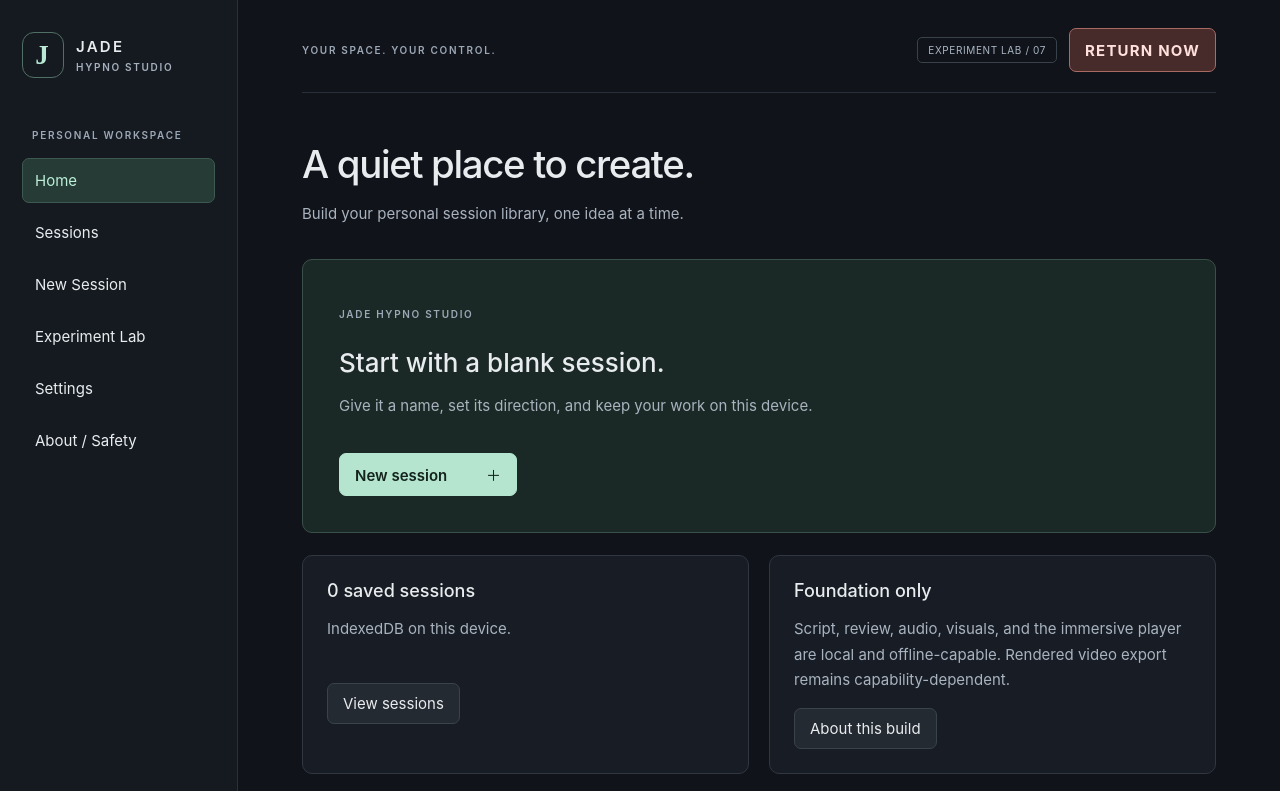
foundation views › creates, edits, flushes on navigation, and reopens a session
The width and height of the screenshot is (1280, 791).
Expected: the button "New session ＋" is enabled, top-left (339, 453), bottom-right (517, 496)
Click the button "New Session" at point(118, 284), box top-left (22, 262), bottom-right (215, 307)
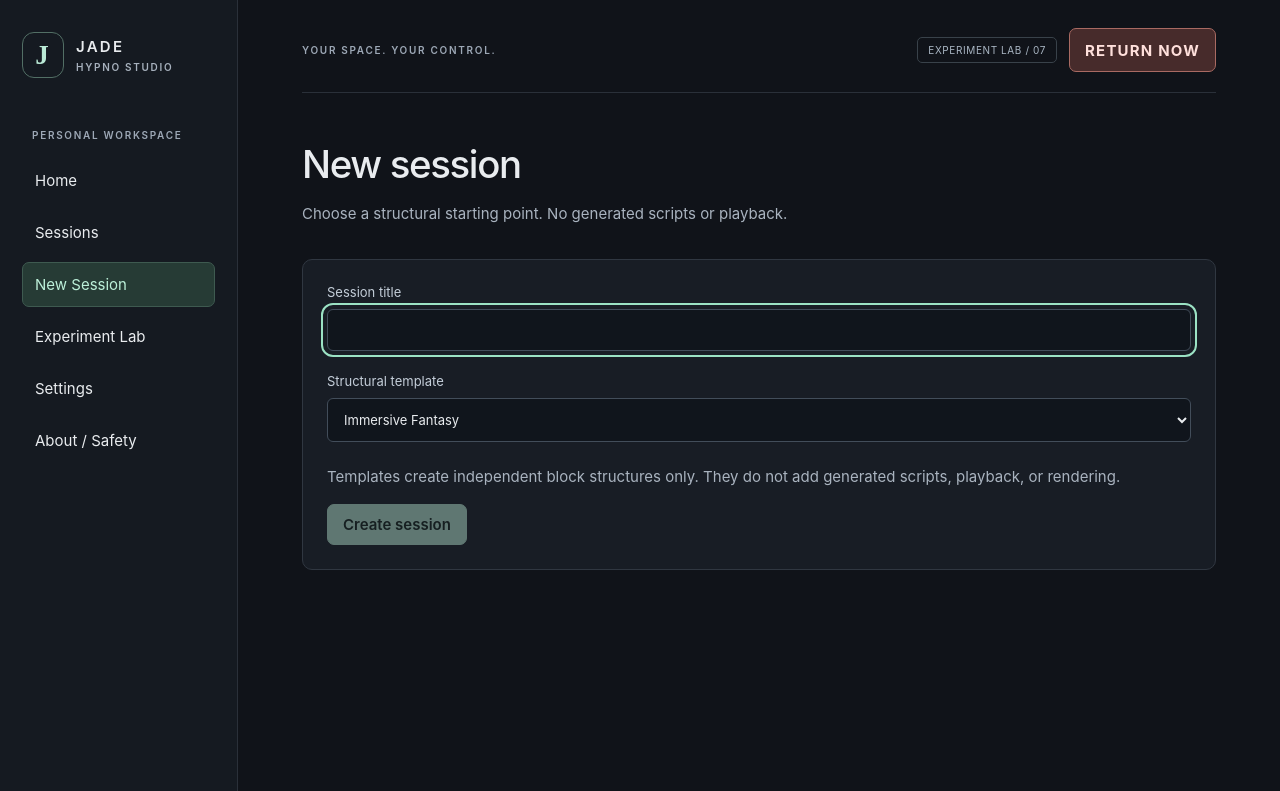
Type "Blank idea" into the field labelled "Session title" at point(759, 330), box top-left (327, 308), bottom-right (1191, 350)
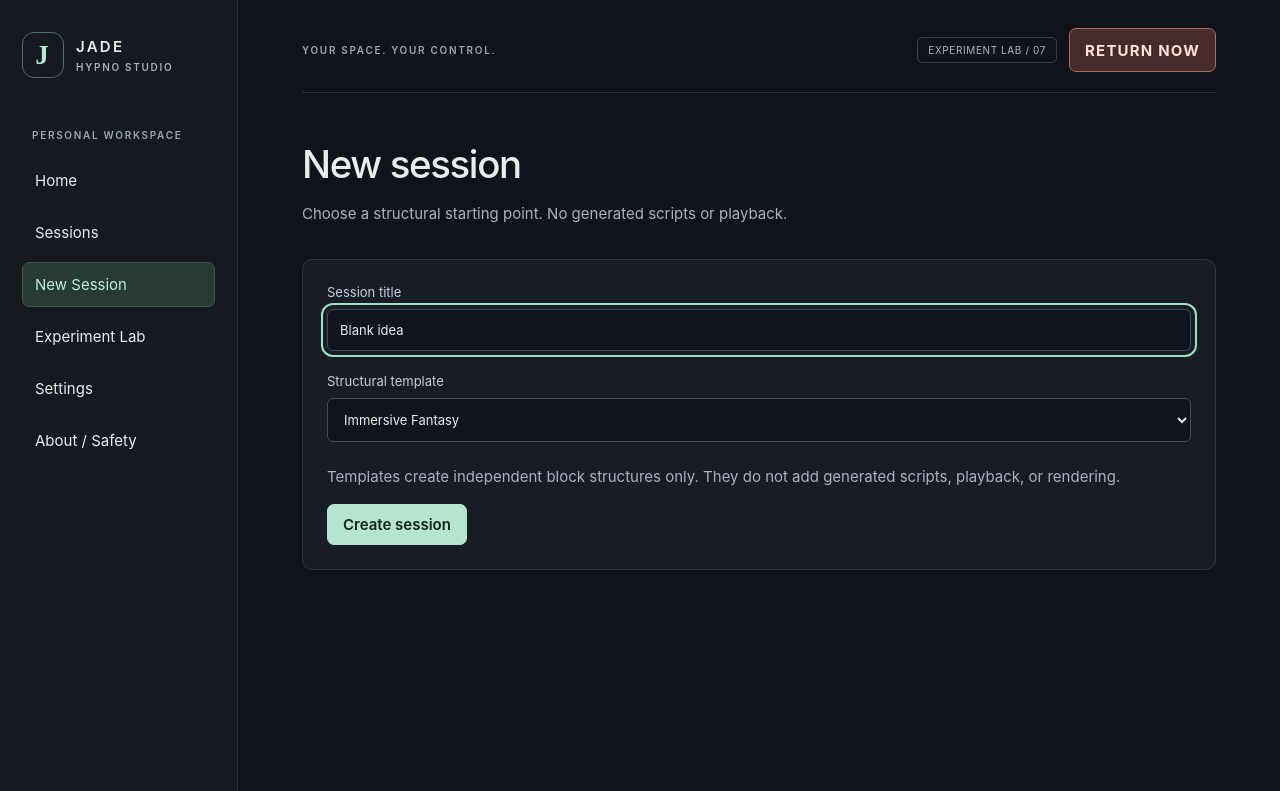
Click the button "Create session" at point(397, 524), box top-left (327, 504), bottom-right (467, 545)
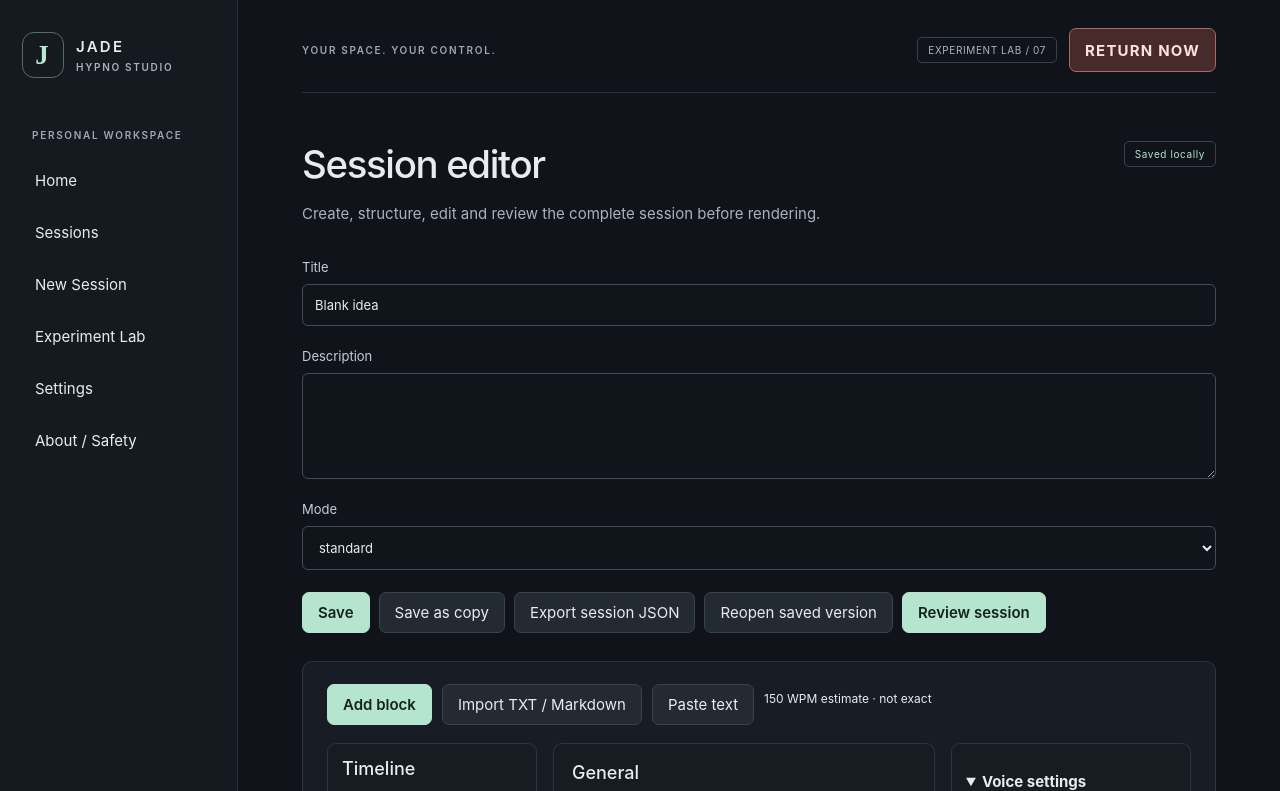
Expected: the heading "Session editor" is shown, top-left (302, 141), bottom-right (545, 187)
Type "A structural note" into the text box labelled "Description" at point(759, 426), box top-left (302, 372), bottom-right (1216, 478)
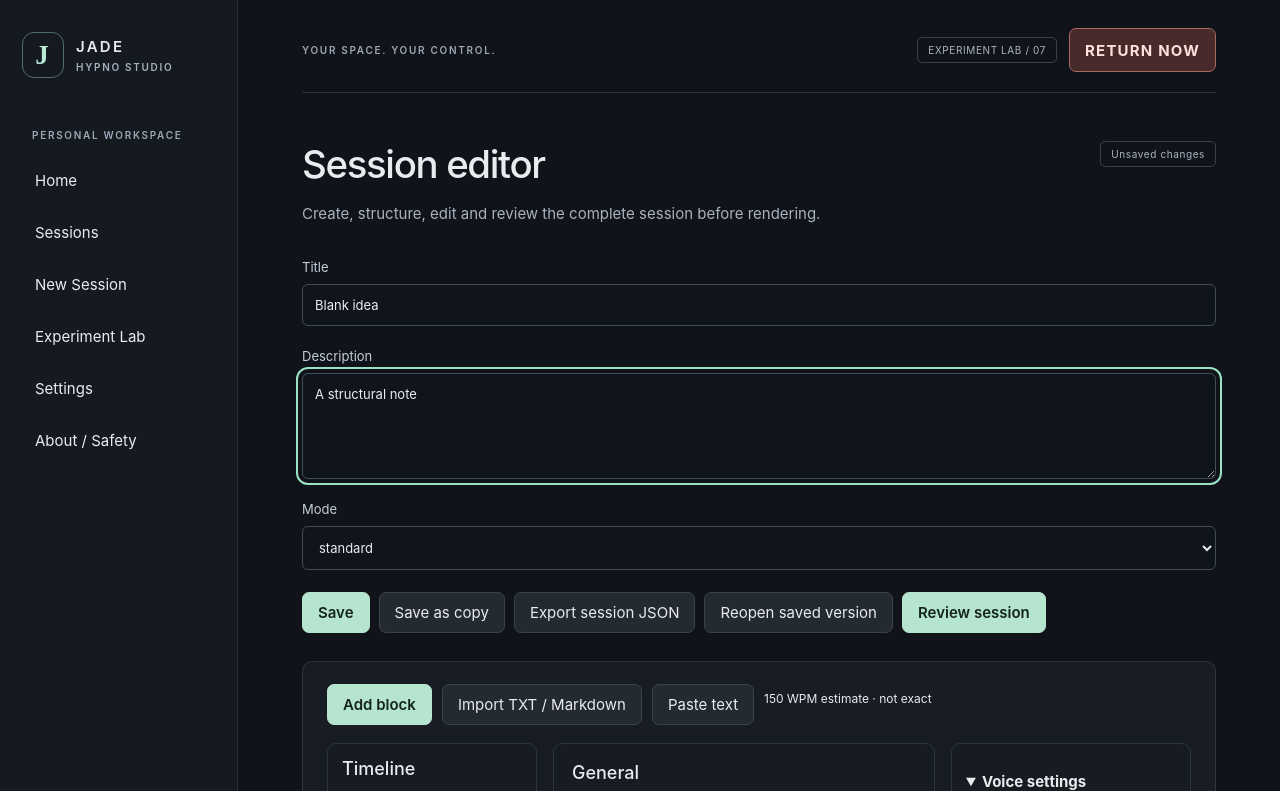
Click the button "Sessions" at point(118, 232), box top-left (22, 210), bottom-right (215, 255)
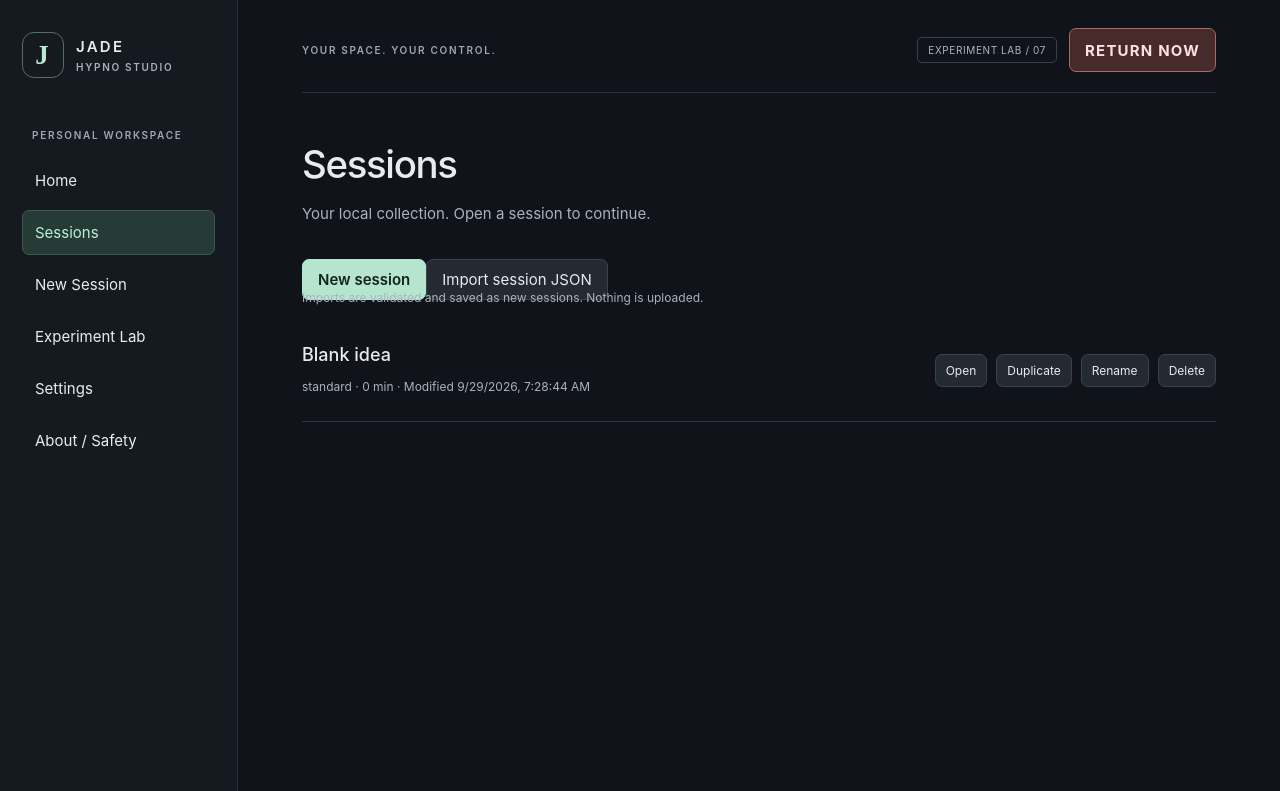
Expected: the heading "Blank idea" is shown, top-left (302, 344), bottom-right (391, 365)
Click the button named "Open Blank idea" at point(961, 371), box top-left (935, 354), bottom-right (987, 387)
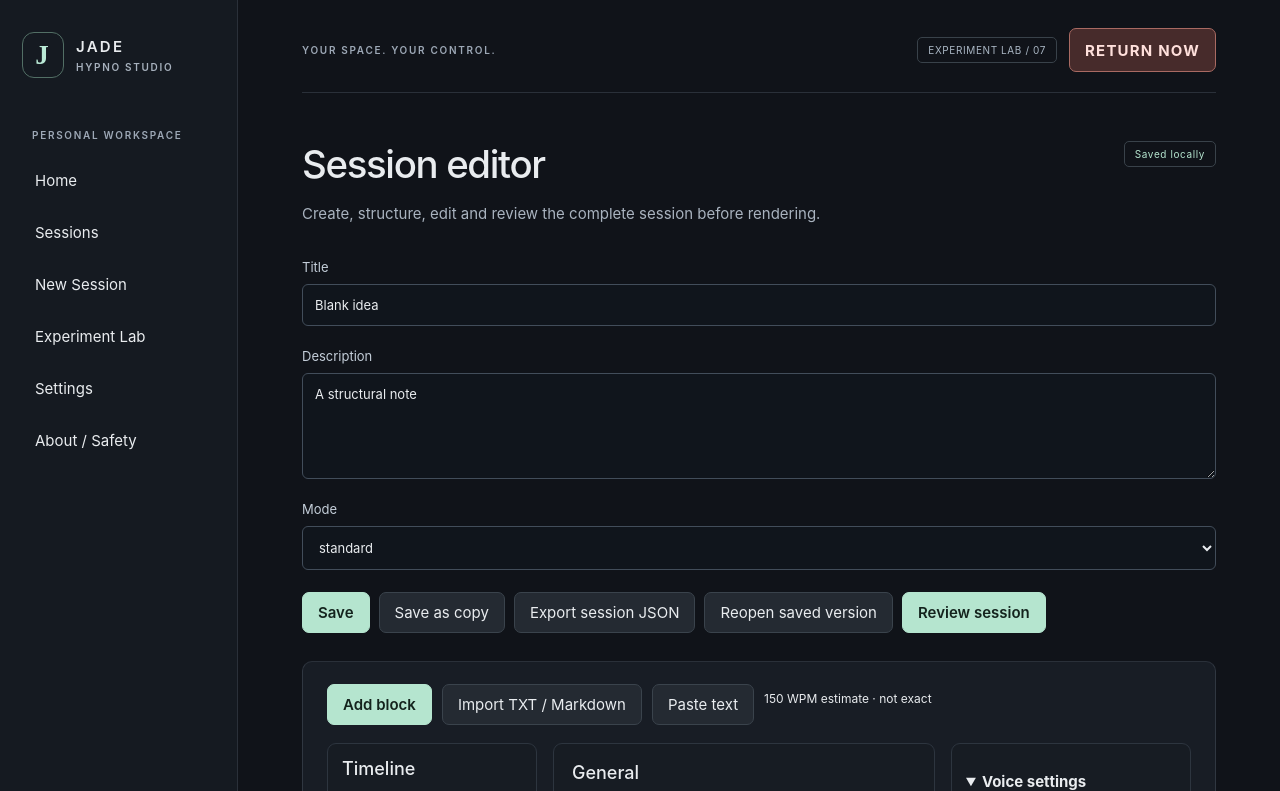
Expected: the text box labelled "Description" holds "A structural note", top-left (302, 372), bottom-right (1216, 478)
